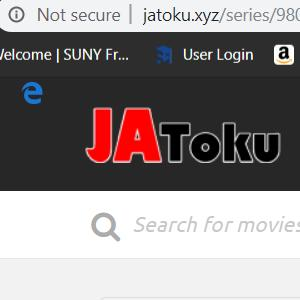edge: (21, 81, 43, 105)
